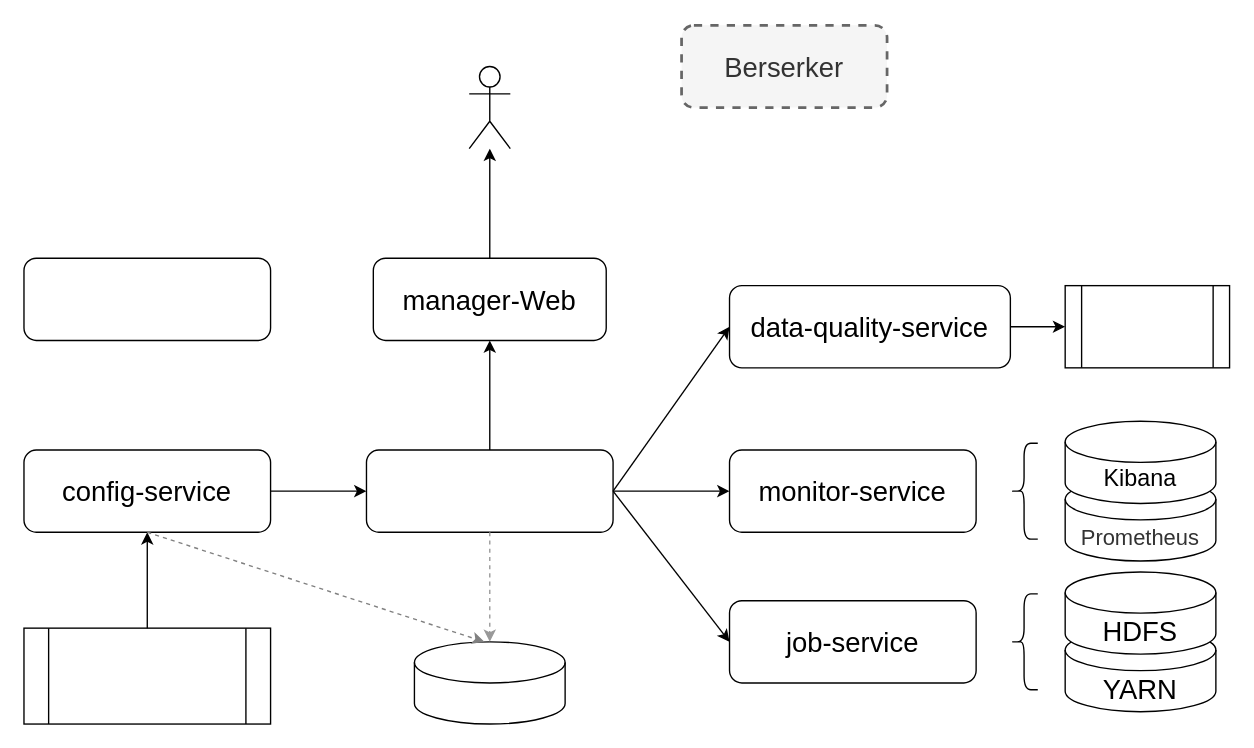
This 1254x748 diagram has some shape labels left out. The box of each missing label's shape, as (x1, y1, x2, y2) in pixels:
1.Lancer Meta 2.Channel Info 3....: (23, 627, 271, 724)
audit-service: (23, 257, 271, 340)
meta-service: (365, 449, 613, 532)
MySql: (413, 640, 565, 724)
T+1 Job S tatistics: (1064, 284, 1230, 368)
